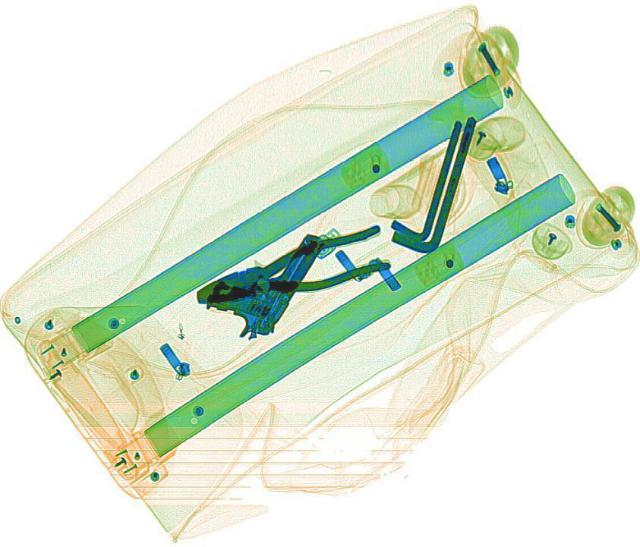Gun: (196, 213, 326, 344)
Pliers: (186, 223, 398, 316)
